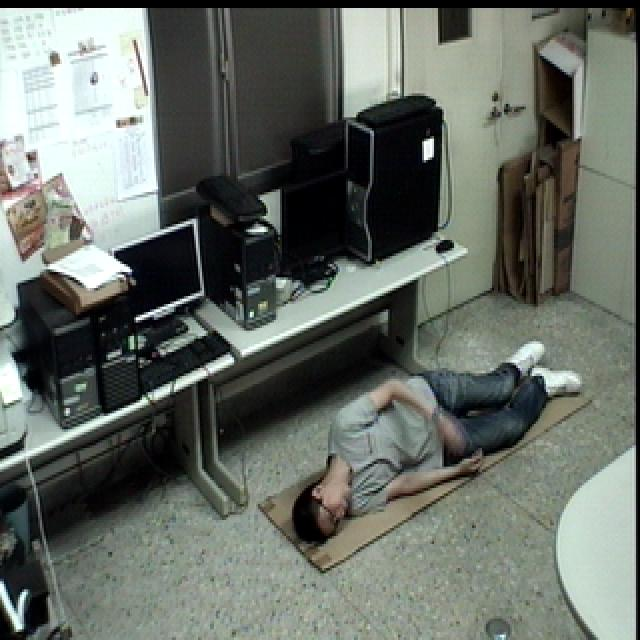lie: (288, 329, 586, 549)
